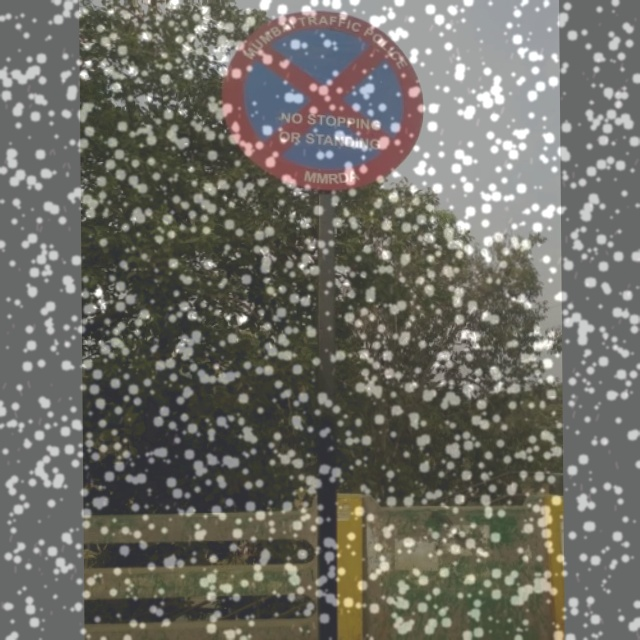No_Stopping_or_Standing: (223, 6, 432, 202)
